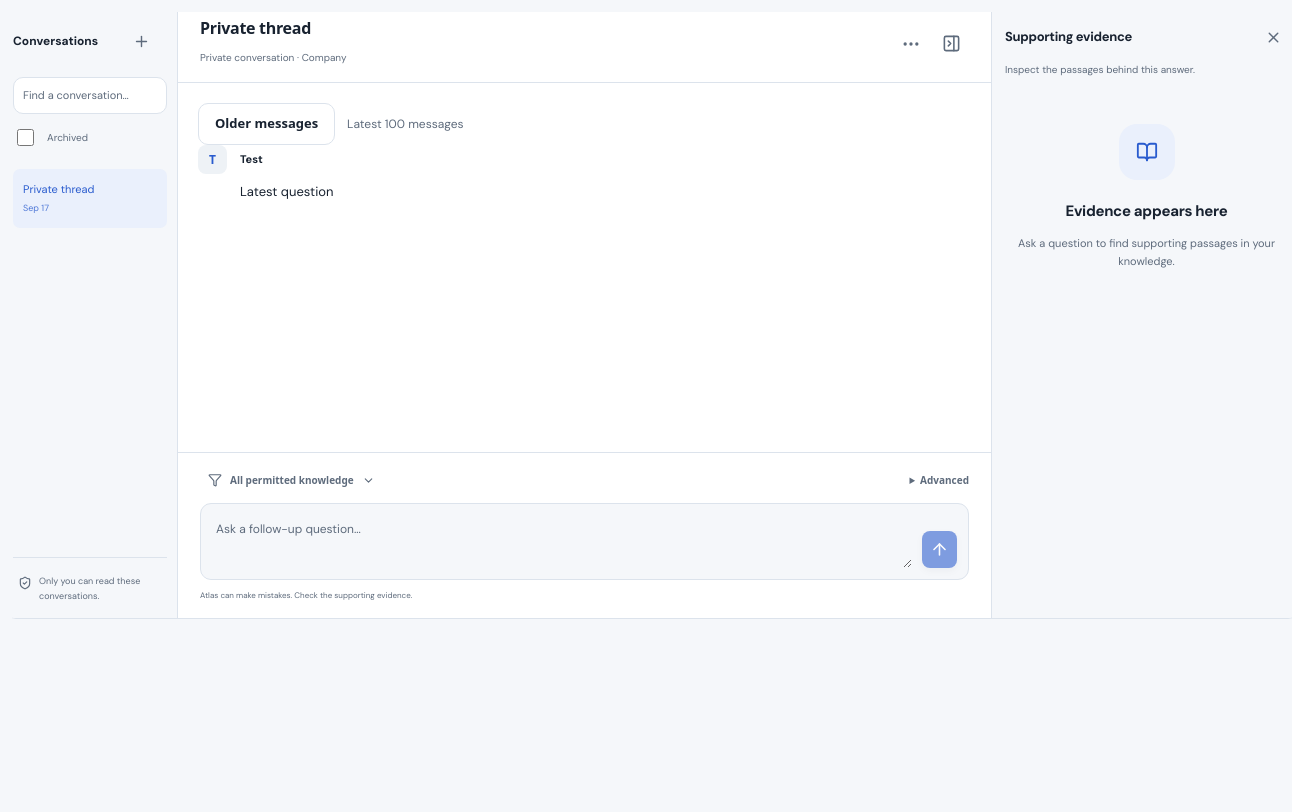
Test case: loads older authorized messages using a scoped URL cursor and returns to the latest composer
This screenshot has width=1292, height=812.
Expected: the text "Latest question" is shown, x1=240 y1=182 x2=334 y2=200
Click the button "Older messages".
click(267, 124)  # box x1=198 y1=103 x2=335 y2=145
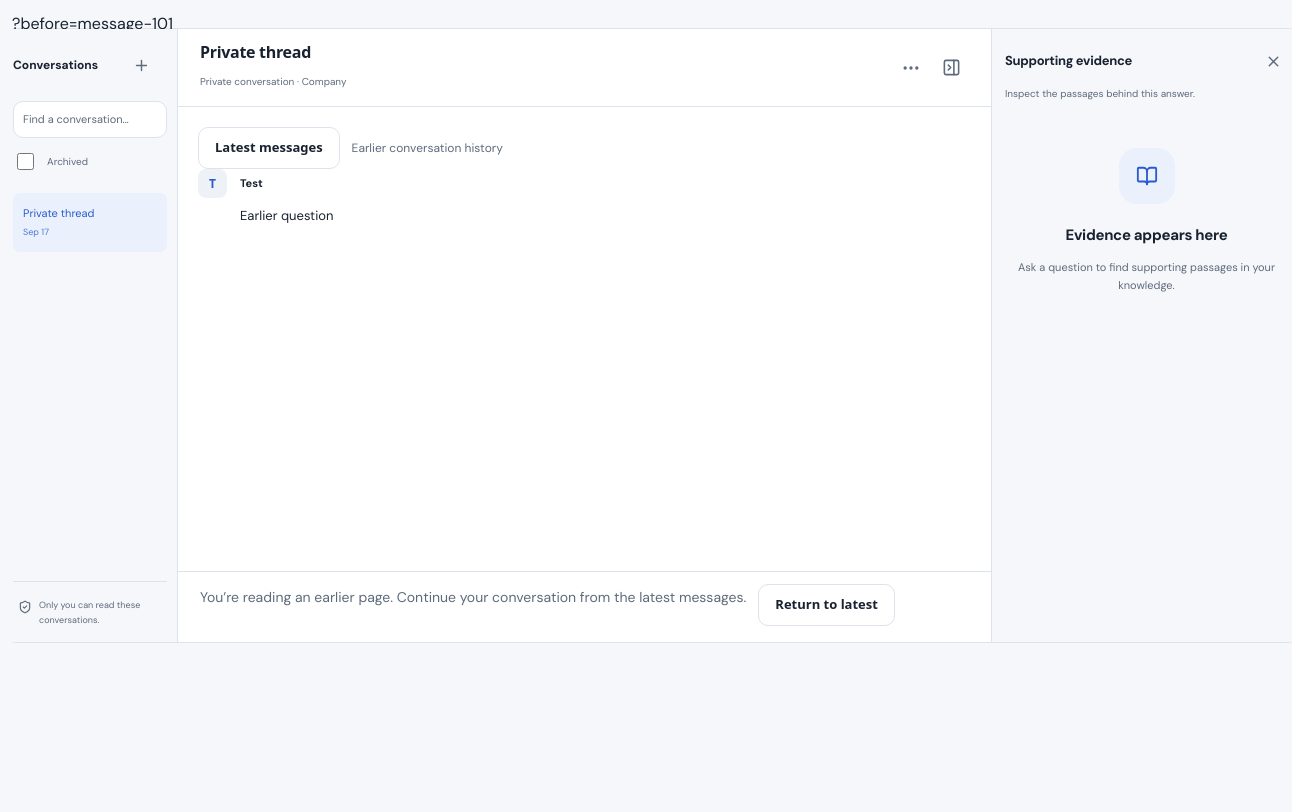
Now the text "Earlier question" is shown, box x1=240 y1=206 x2=334 y2=224
Now the text "Latest question" is gone
Now the text with test id "current-search" reads "?before=message-101", box x1=12 y1=13 x2=173 y2=34
Click the button "Latest messages".
click(269, 148)  # box x1=198 y1=127 x2=340 y2=169
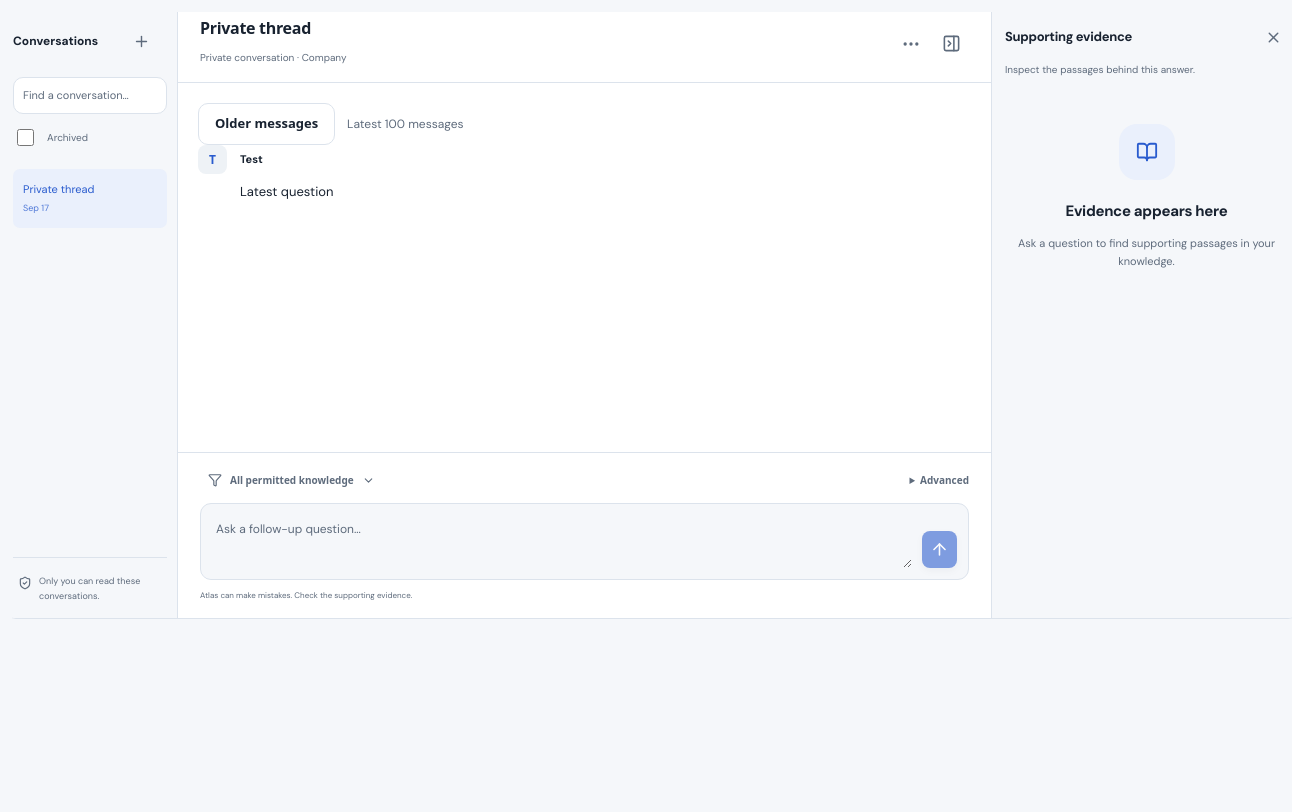
Now the text "Latest question" is shown, box x1=240 y1=182 x2=334 y2=200
Now the text "Earlier question" is gone
Now the text box named "Your question" is shown, box x1=212 y1=515 x2=912 y2=568
